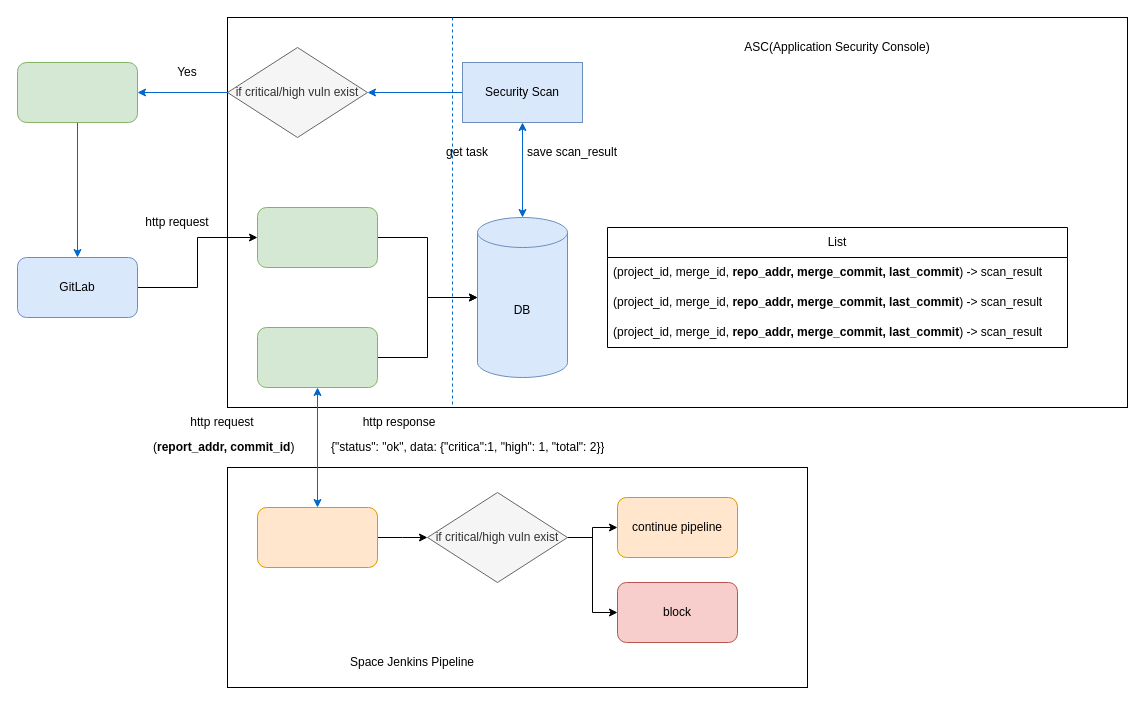
This 1145x705 diagram has some shape labels left out. Here are the shapes that lost their labels. From the top down, the centre of each, then its label:
At (x=77, y=92): "Comment in MR".
At (x=317, y=237): "GitLab Webhook".
At (x=317, y=357): "Checkpoint Webhook".
At (x=317, y=537): "before release".
